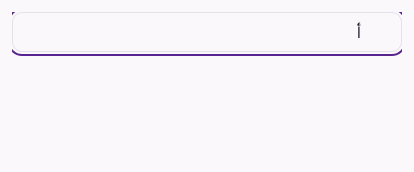
it: order phone inputs inside an RTL page › uses RTL for an Arabic name search and LTR once the query is a phone
Earlier steps of the test are not shown.
Step 1. Replace the text in the field named "بحث عن عميل" with "أح" → [207, 32], box [12,12,402,52]
Step 2. Replace the text in the field named "بحث عن عميل" with "أحم" → [207, 32], box [12,12,402,52]
Step 3. Replace the text in the field named "بحث عن عميل" with "أحمد" → [207, 32], box [12,12,402,52]
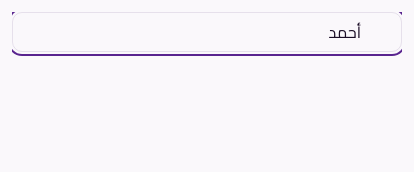
Step 4. Replace the text in the field named "بحث عن عميل" with "+" → [207, 32], box [12,12,402,52]
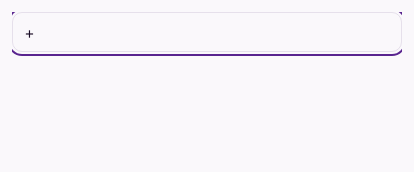
Step 5. Replace the text in the field named "بحث عن عميل" with "+2" → [207, 32], box [12,12,402,52]
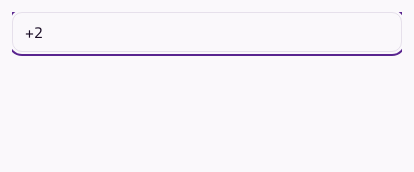
Step 6. Replace the text in the field named "بحث عن عميل" with "+20" → [207, 32], box [12,12,402,52]
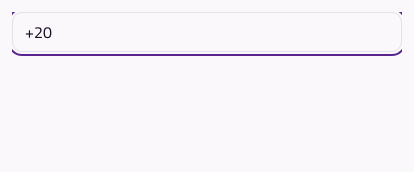
Step 7. Replace the text in the field named "بحث عن عميل" with "+201" → [207, 32], box [12,12,402,52]
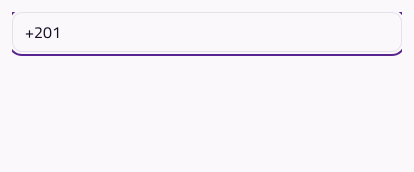
Step 8. Replace the text in the field named "بحث عن عميل" with "+2010" → [207, 32], box [12,12,402,52]
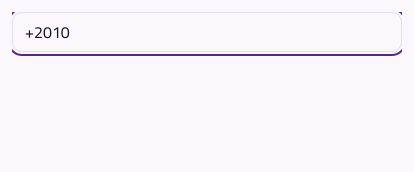
expect the field named "بحث عن عميل" has attribute dir="ltr": met, box [12,12,402,52]
